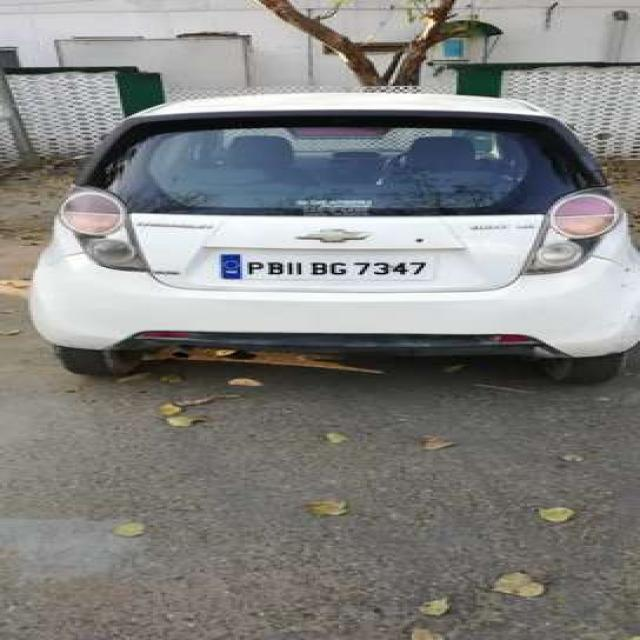Plate: (220, 252, 439, 281)
